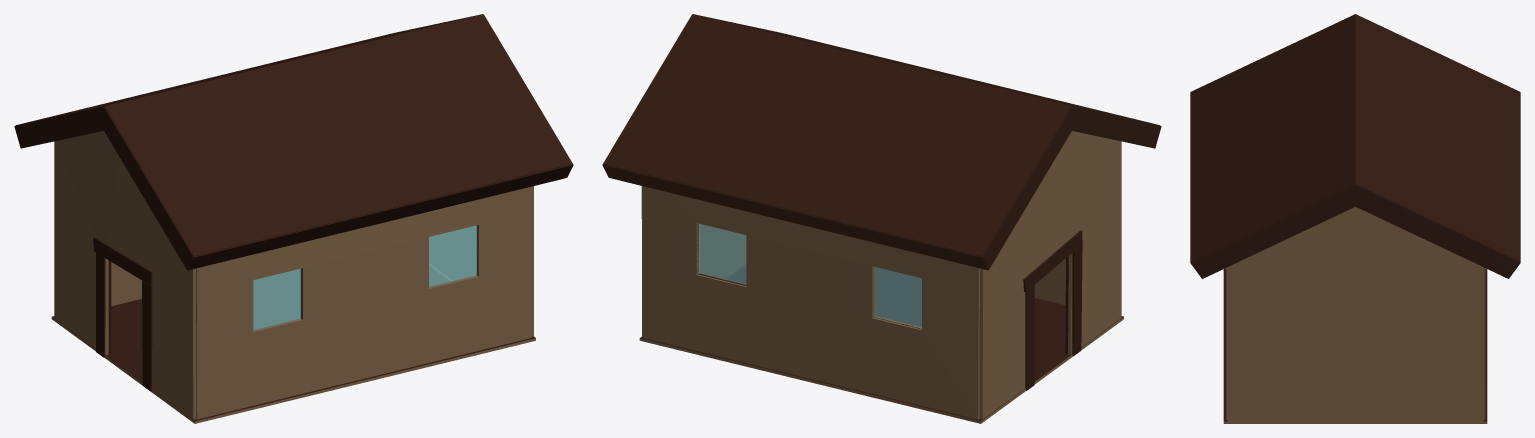
File: house_1.fbx
The picture shows the model from 3 angles, left to right: view 1: azimuth 30°, elevation 25°; view 2: azimuth 150°, elevation 25°; view 3: azimuth 270°, elevation 25°; orthographic projection. The views are drawn at different scales.
Visible parts, largest first — view 1: Main House, Window3, Window4; view 2: Main House, Window2, Window; view 3: Main House.
Part boxes in pixels (bbox=[...]): Main House: bbox=[14, 14, 573, 423]; Window3: bbox=[253, 268, 301, 330]; Window4: bbox=[429, 225, 477, 287]; Main House: bbox=[602, 14, 1161, 423]; Window2: bbox=[699, 223, 746, 284]; Window: bbox=[874, 267, 921, 327]; Main House: bbox=[1190, 14, 1520, 423].
Size of the model in its own units: 445 by 302 by 364.
